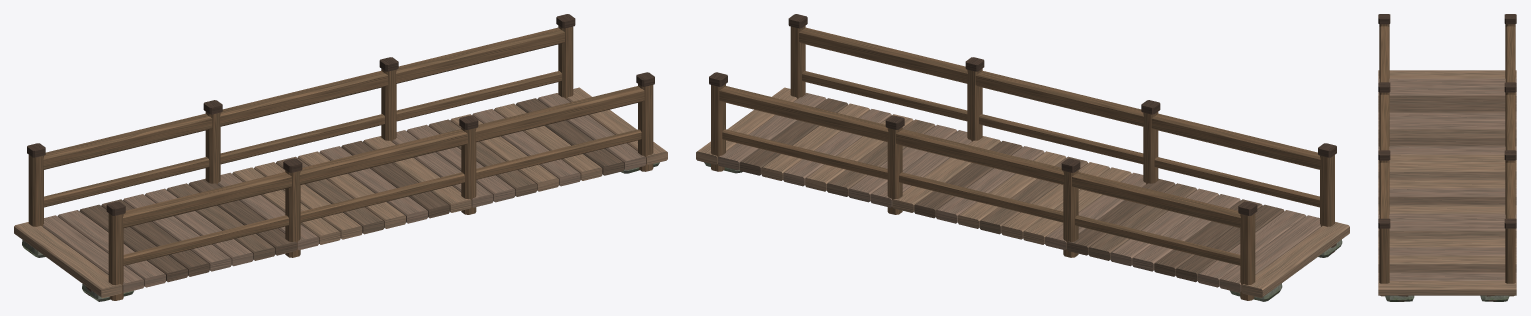
The model's file is plank-bridge.glb.
3 views of the same model, side by side, from view 1: azimuth 30°, elevation 25°; view 2: azimuth 150°, elevation 25°; view 3: azimuth 270°, elevation 25° (orthographic). The views are drawn at different scales.
Visible parts, largest first — view 1: Split cedar plank bridge and raked braces, Four dressed granite landing blocks; view 2: Split cedar plank bridge and raked braces, Four dressed granite landing blocks; view 3: Split cedar plank bridge and raked braces, Four dressed granite landing blocks.
Part boxes in pixels (left/top/right/bottom): Split cedar plank bridge and raked braces: left=14, top=14, right=667, bottom=300; Four dressed granite landing blocks: left=22, top=162, right=659, bottom=301; Split cedar plank bridge and raked braces: left=696, top=14, right=1349, bottom=300; Four dressed granite landing blocks: left=704, top=162, right=1342, bottom=301; Split cedar plank bridge and raked braces: left=1378, top=14, right=1516, bottom=301; Four dressed granite landing blocks: left=1385, top=295, right=1509, bottom=301.
Size of the model in its own units: 5.99 by 0.9535 by 1.6.
2 materials, 2 textured.
